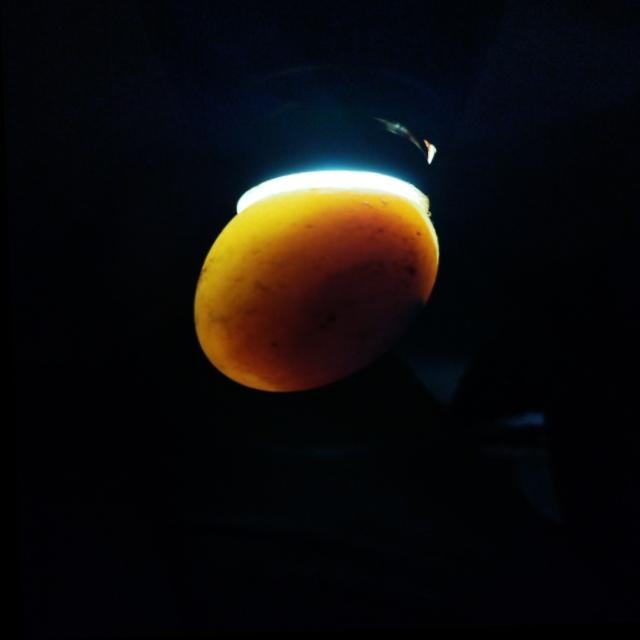Area Infectada: (262, 250, 426, 386)
